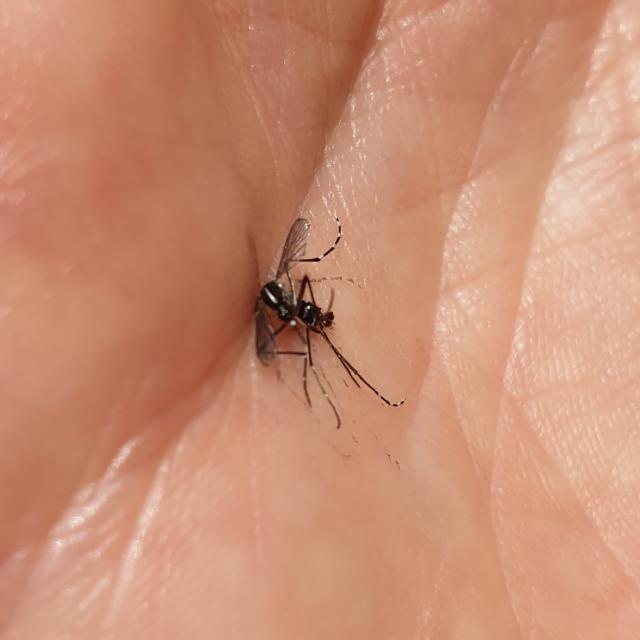albopictus: (238, 210, 405, 431)
